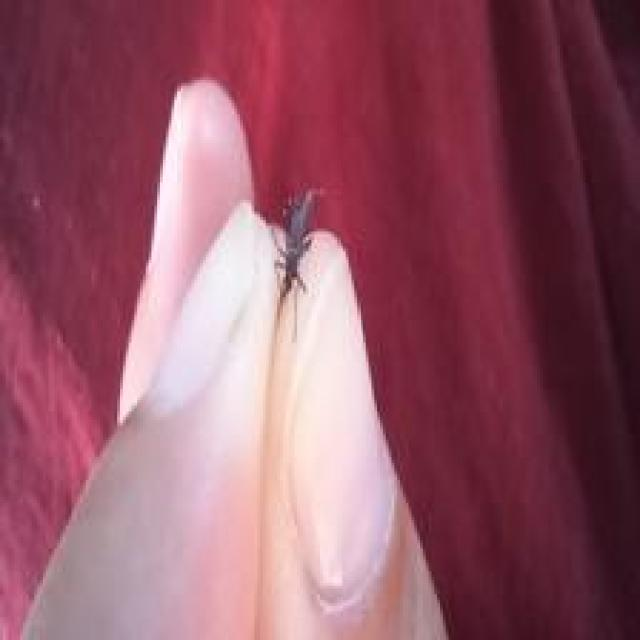Aedes albopictus: (266, 185, 323, 342)
